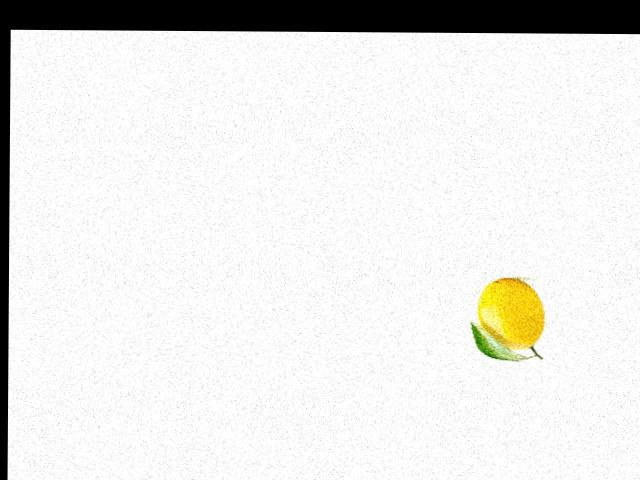lemon: (473, 275, 547, 359)
